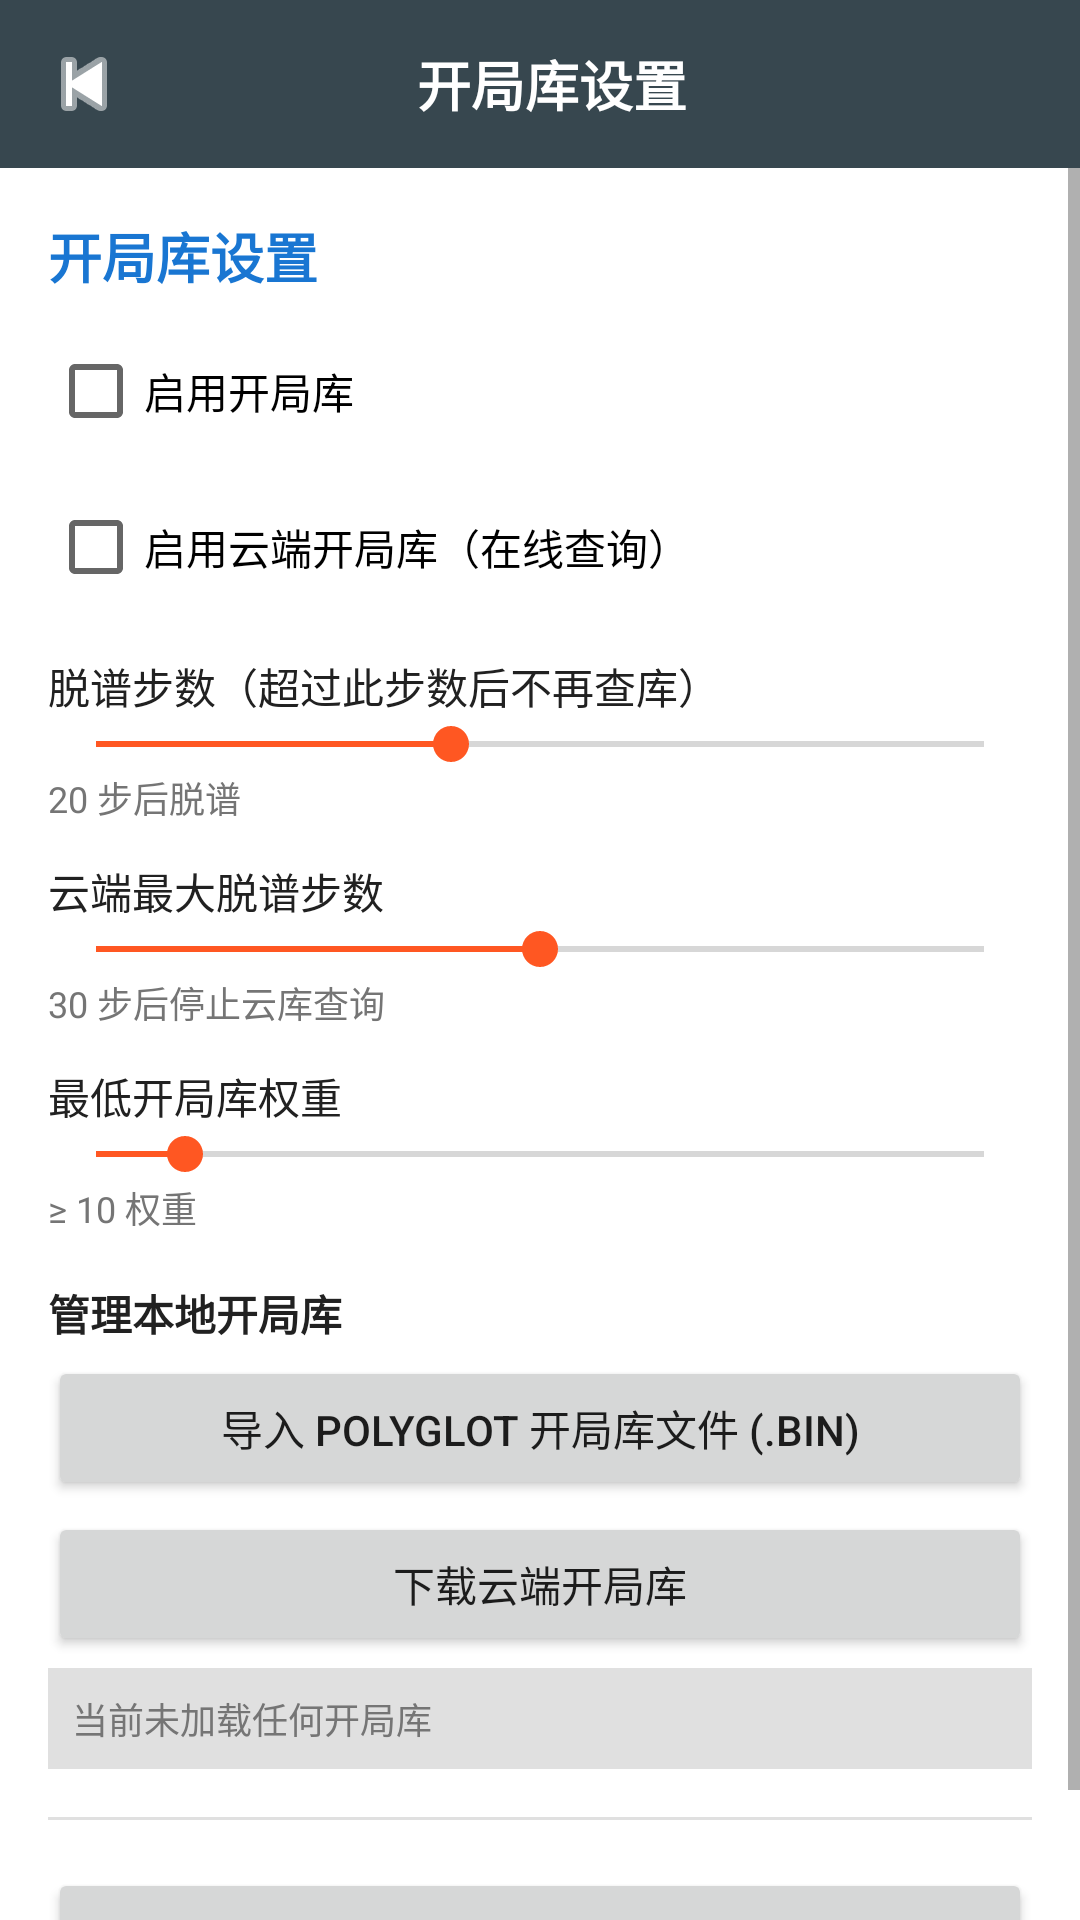

Named icons in this screenshot (1080x1920) and their centers, (x=x, y=y):
返回: (x=84, y=84)
